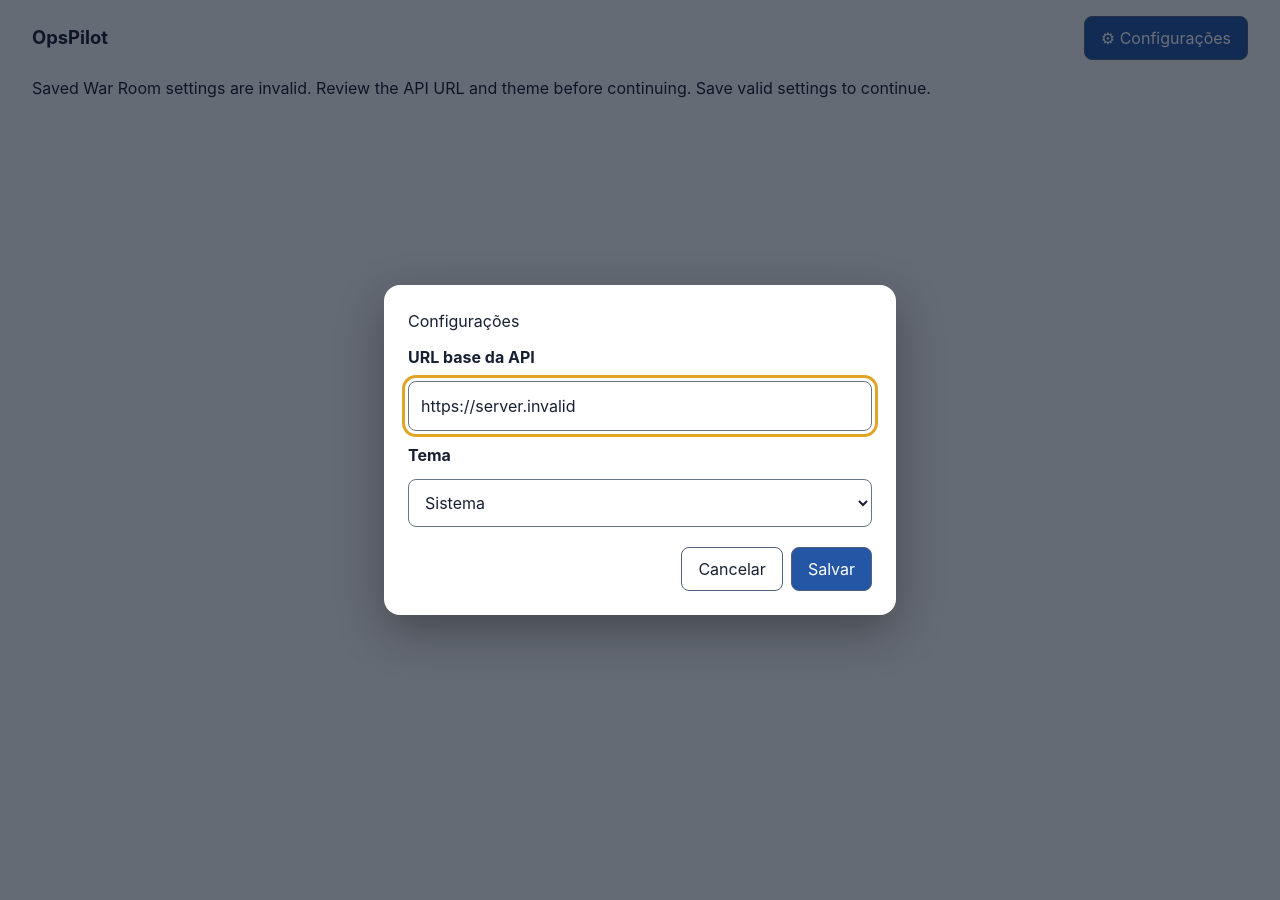
it: invalid saved settings are visible and block the chat until corrected
Expected: the message is shown, x1=32 y1=78 x2=931 y2=98
Expected: the field labelled "Mensagem" is not shown
Replace the text in the field labelled "URL base da API" with "http://localhost:3000" at [640, 406], box x1=408 y1=381 x2=872 y2=431
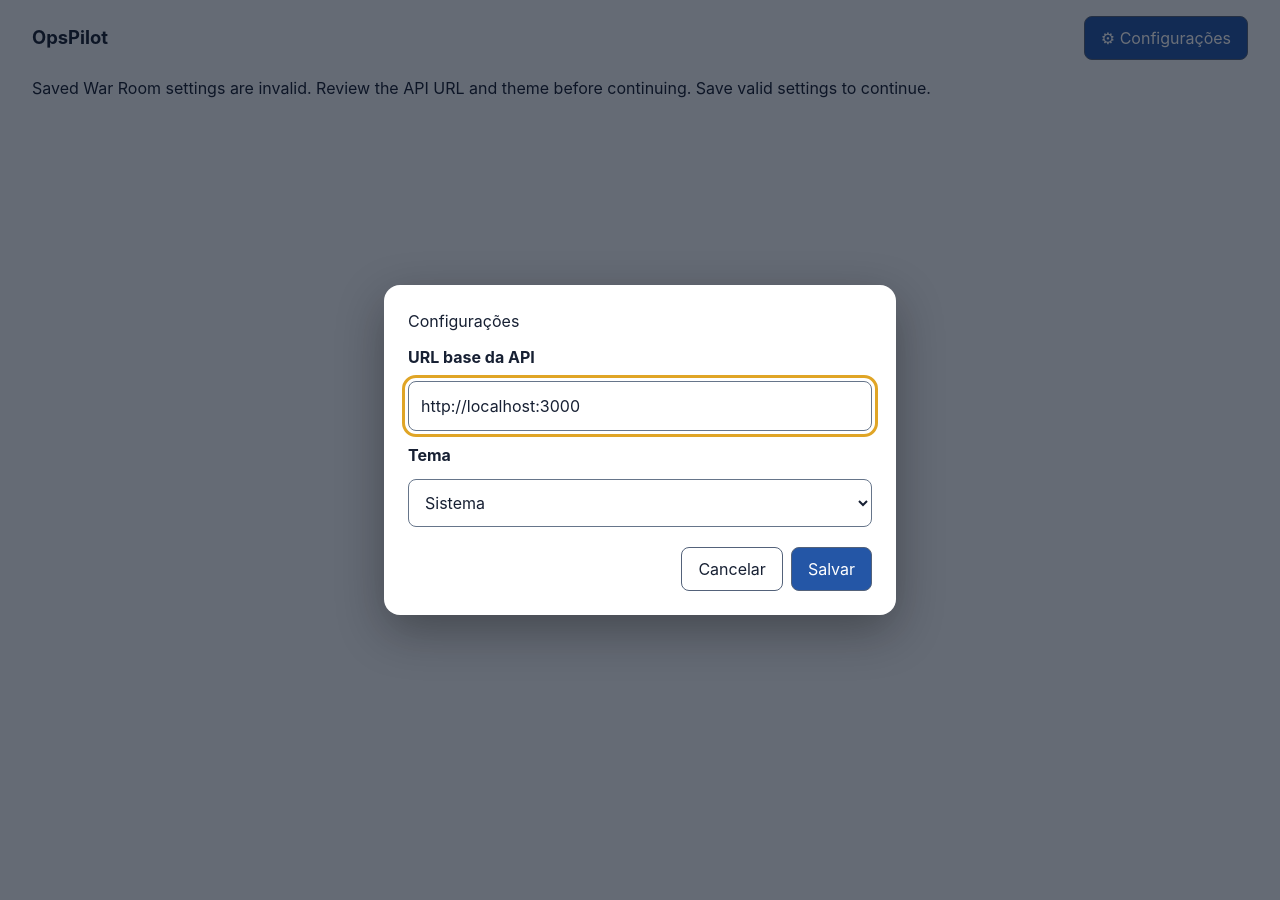
Click the button "Salvar" at [831, 569], box x1=791 y1=547 x2=872 y2=591
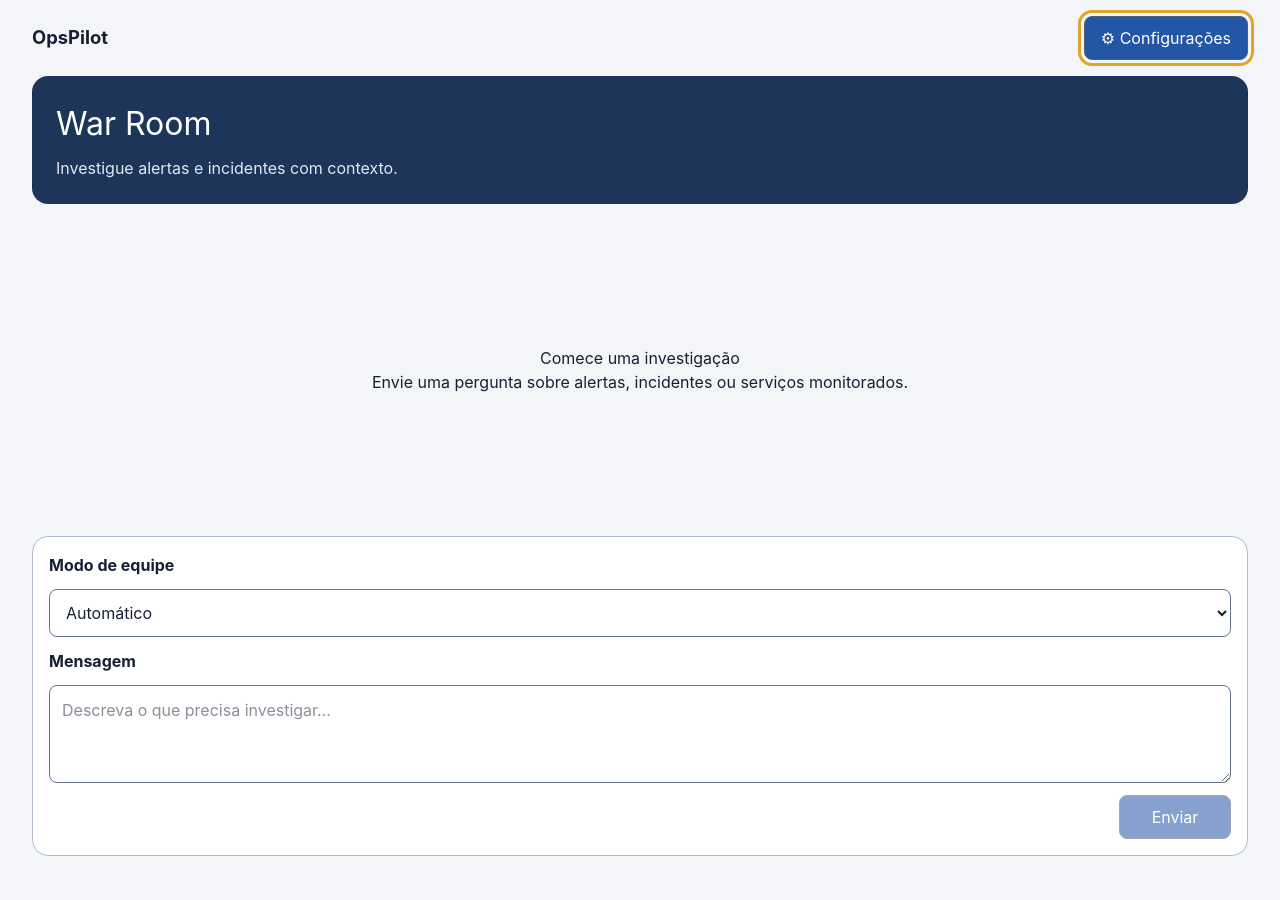
Expected: the text box labelled "Mensagem" is shown, x1=49 y1=685 x2=1231 y2=783
